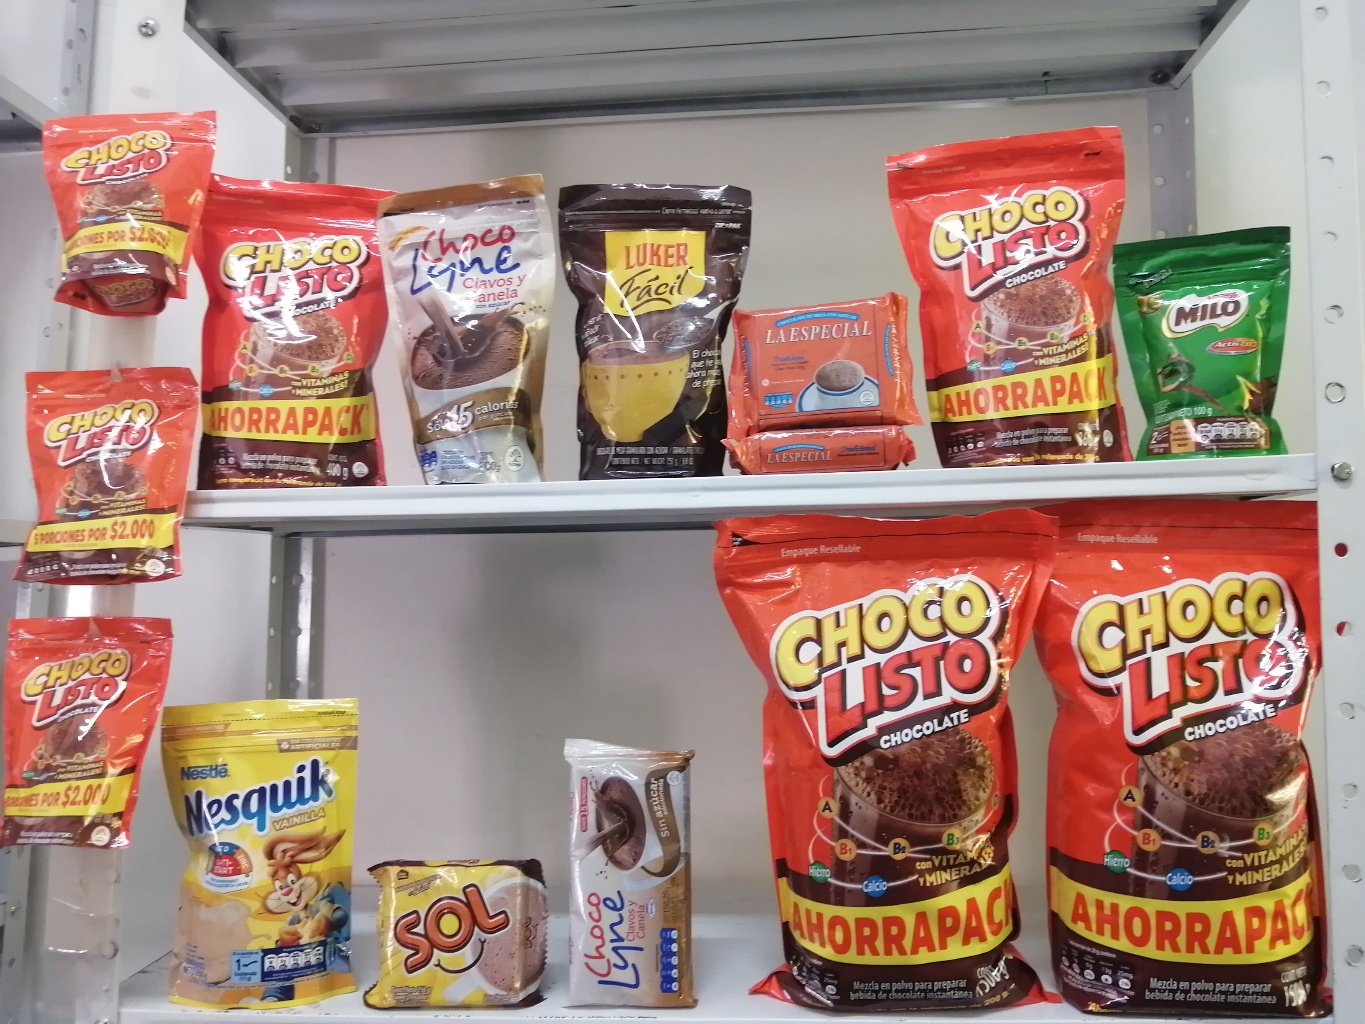COL0170103DYP1,500: (1038, 501, 1328, 1020)
COL0170103DYP10000: (40, 89, 230, 311)
COL0170103DYP36000: (891, 123, 1150, 463)
COL0170103DYP40000: (194, 152, 394, 479)
COL0170203DYP10000: (1108, 221, 1294, 463)
COL0170306DYP20000: (155, 674, 357, 1012)
